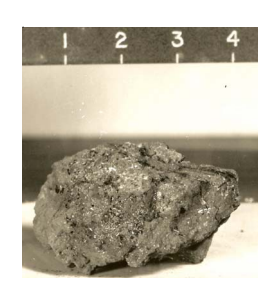Breccia: (46, 123, 236, 273)
